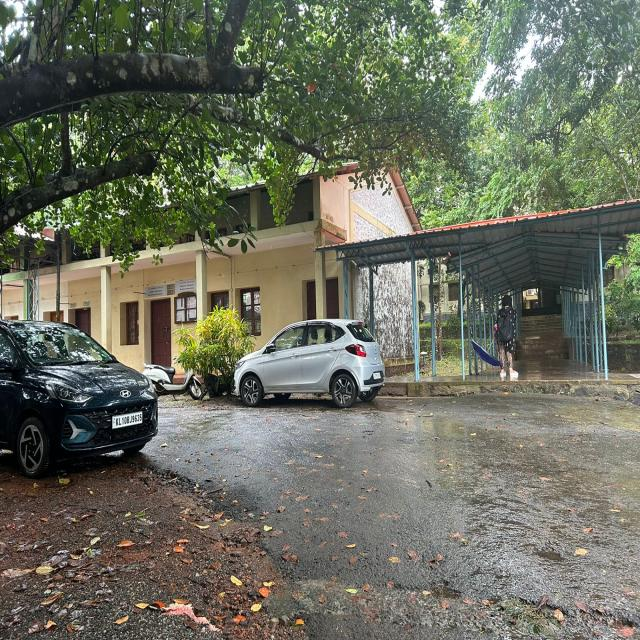car ahead at: (0, 309, 156, 482), (232, 312, 387, 410)
person ahead at: (484, 292, 526, 382)
